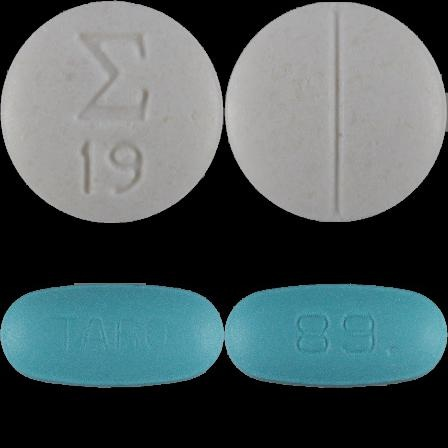55700-056: (0, 0, 224, 224)
